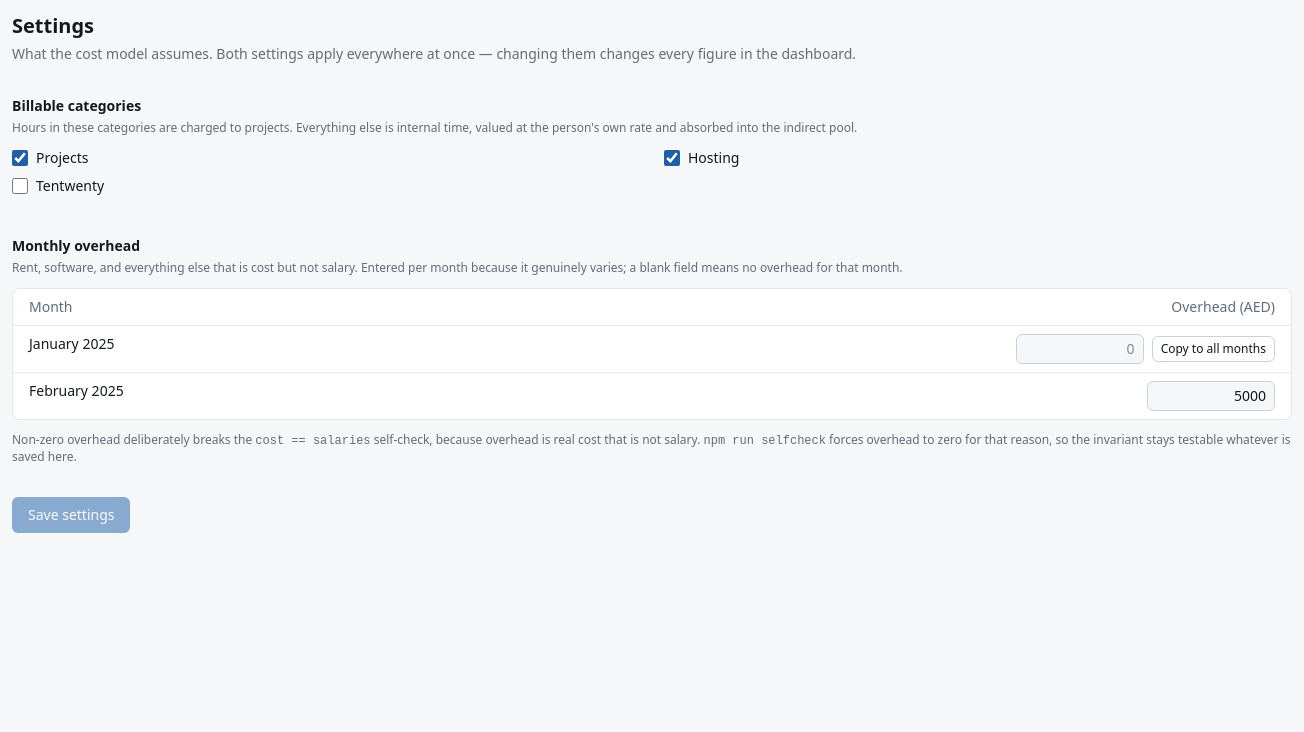
it: overhead that cannot be read › says so on the row and refuses to save it
Type "12k" into the field named "Overhead for January 2025" at (1080, 349), box [1016,334,1144,364]
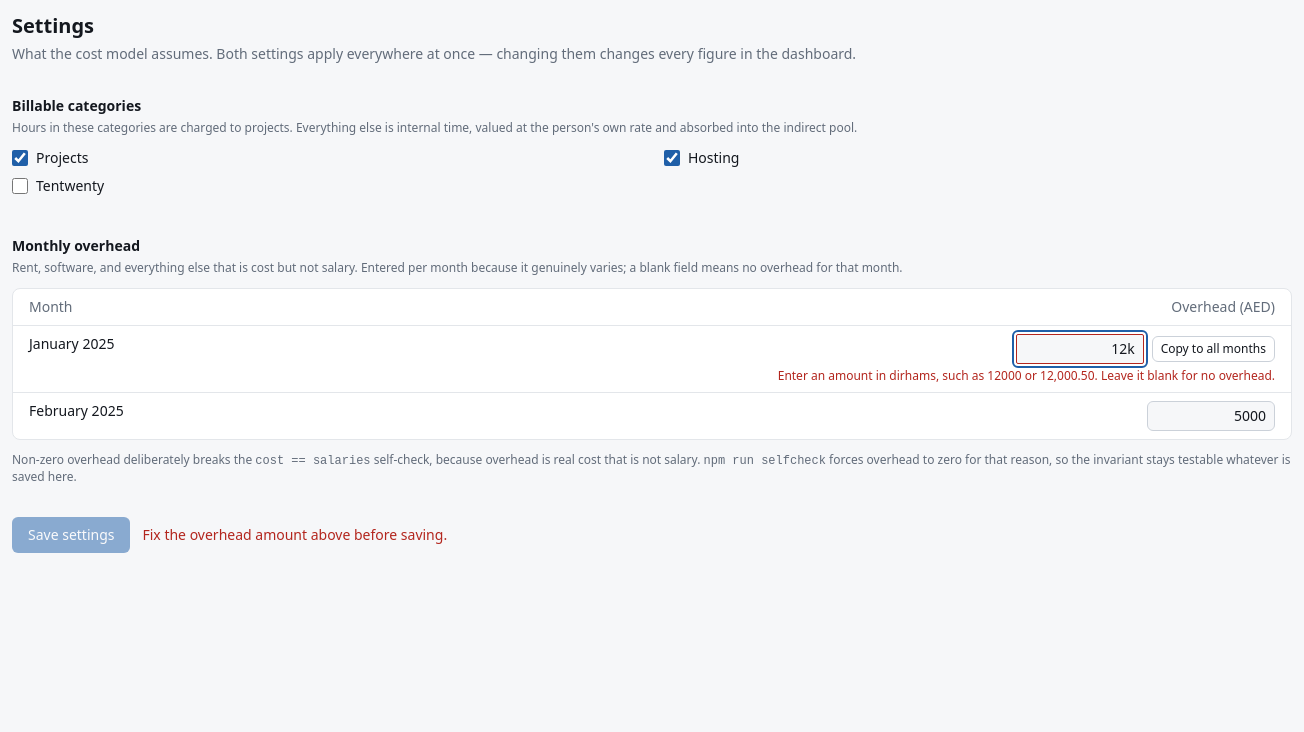
Expected: the button "Save settings" is disabled, [12,517,130,553]
Now the text "Enter an amount in dirhams" is shown, box [778,367,1275,384]
Now the text "Fix the overhead amount above before saving." is shown, box [142,525,447,545]
